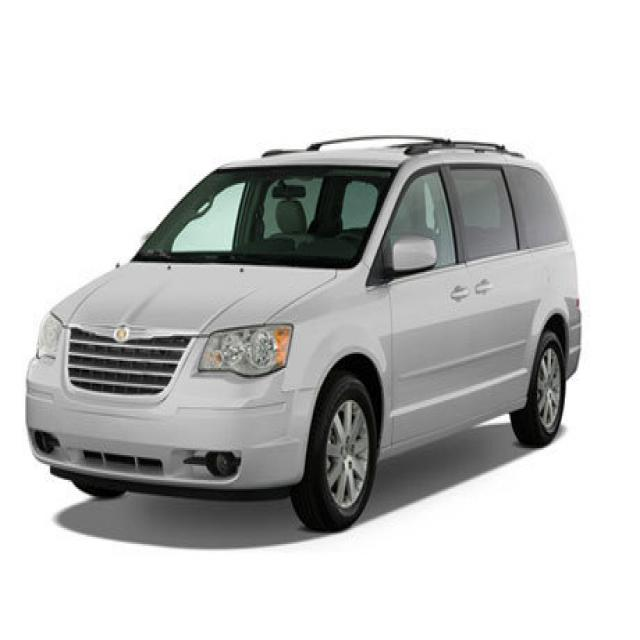car: (11, 130, 589, 538)
